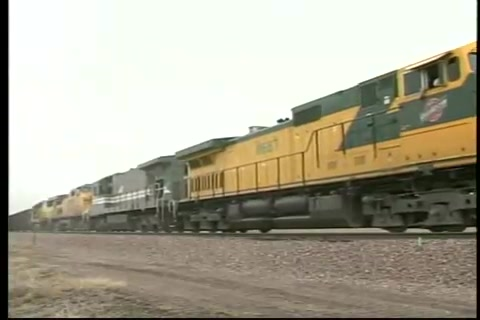train: (11, 40, 478, 236)
